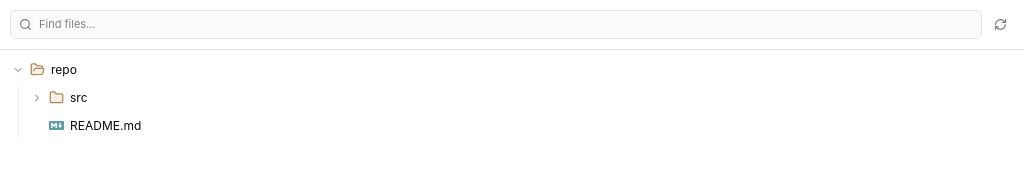
Test: opens the root by default and lazily expands folders without replacing sibling files
Check: the button "README.md" is shown, box [25, 112, 1018, 140]
Click the button "src": (37, 98) [25, 84, 1018, 112]
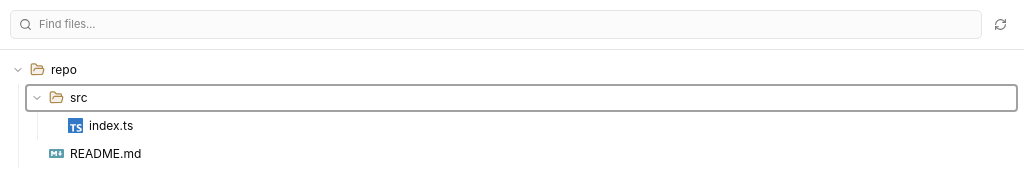
Click the button "index.ts": (111, 125) [44, 112, 1018, 140]
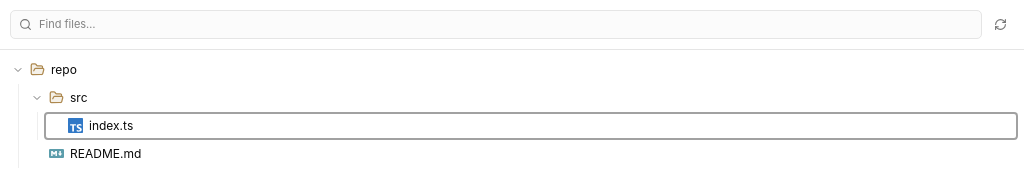
Check: the button "README.md" is shown, box [25, 140, 1018, 168]
Click the button "src": (37, 98) [25, 84, 1018, 112]
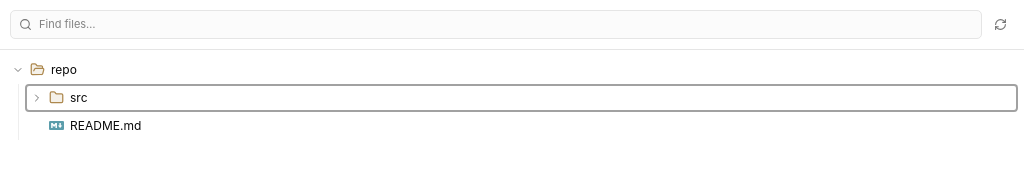
Check: the button "index.ts" is gone
Check: the button "src" is collapsed, box [25, 84, 1018, 112]
